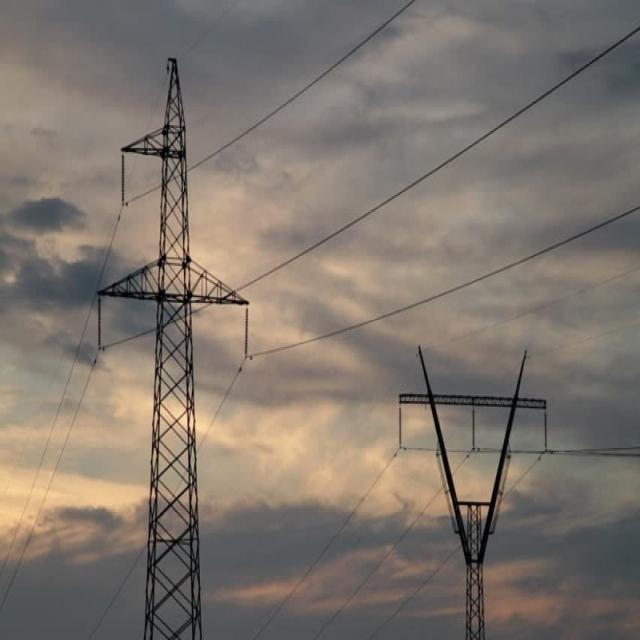non-critical vegetation: (105, 56, 246, 634)
